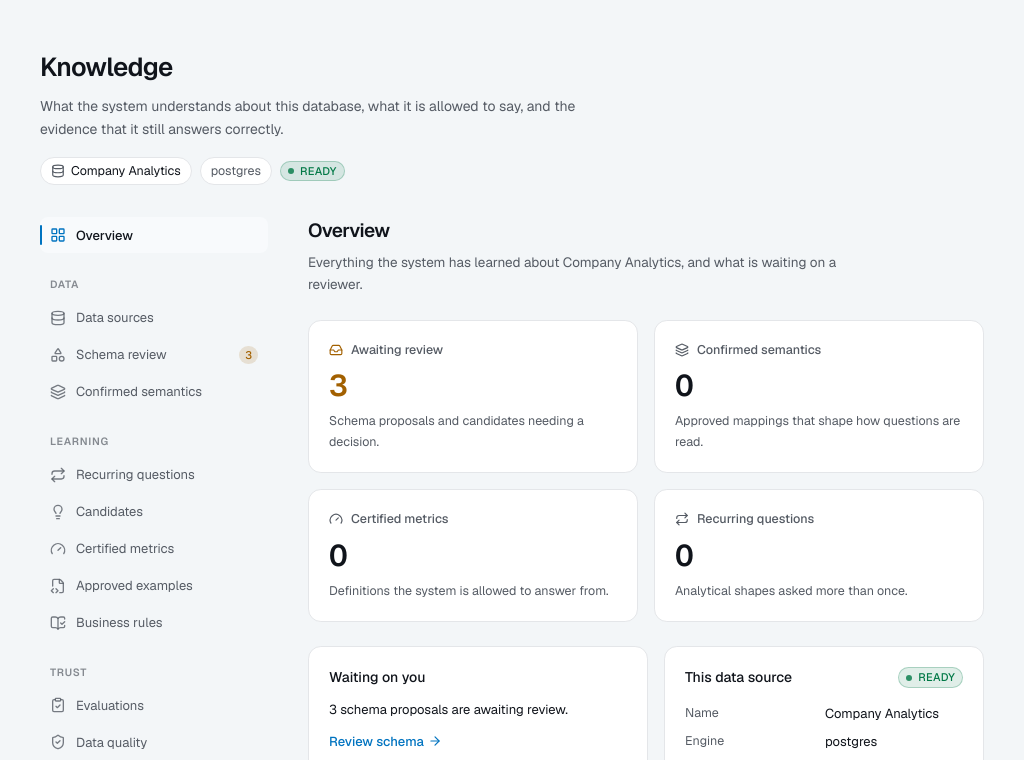
Test: Schema review › groups attributes under the concept they belong to
The image size is (1024, 760).
Click the tab "Schema review 3".
click(154, 355)  # box [40,337,268,373]
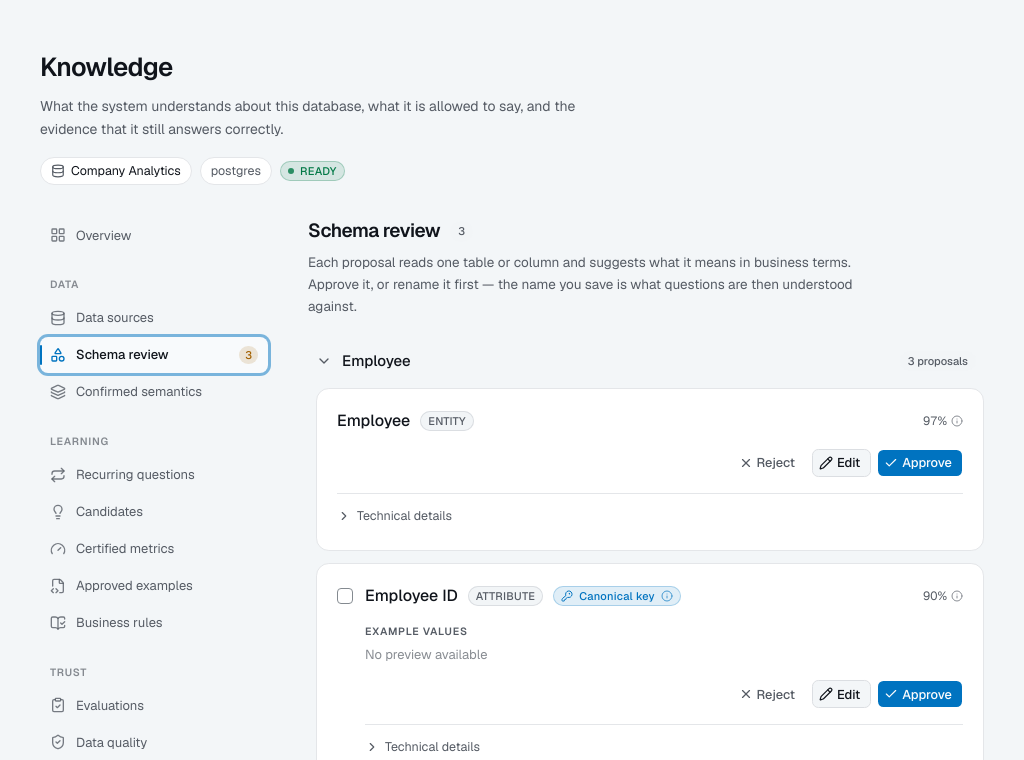
Result: the heading "Employee ID" is shown at [365,584,458,608]
